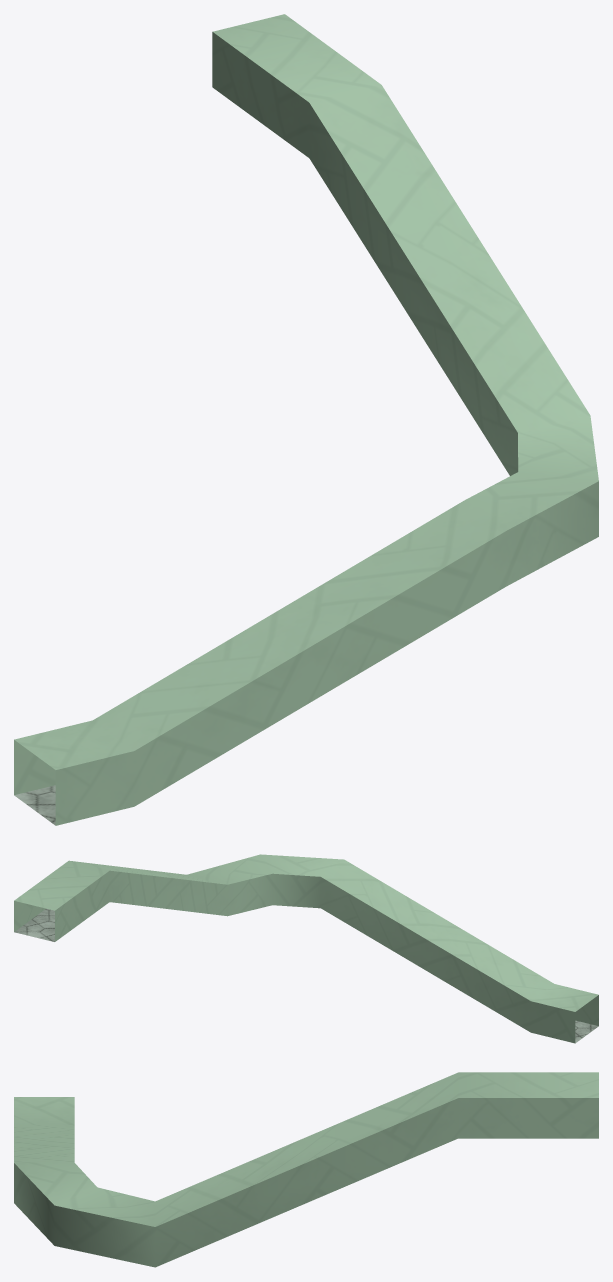
File: LevelTransition1-2.fbx
3 renders of one model, top to bottom at view 1: azimuth 30°, elevation 25°; view 2: azimuth 150°, elevation 25°; view 3: azimuth 270°, elevation 25°, orthographic. The views are drawn at different scales.
Parts seen in each view (by area): view 1: LevelTransition1-2; view 2: LevelTransition1-2; view 3: LevelTransition1-2.
Part boxes in pixels (left/top/right/bottom): LevelTransition1-2: left=14, top=14, right=598, bottom=825; LevelTransition1-2: left=14, top=854, right=598, bottom=1043; LevelTransition1-2: left=14, top=1072, right=598, bottom=1267.
Size of the model in its own units: 6173 by 3385 by 6816.
